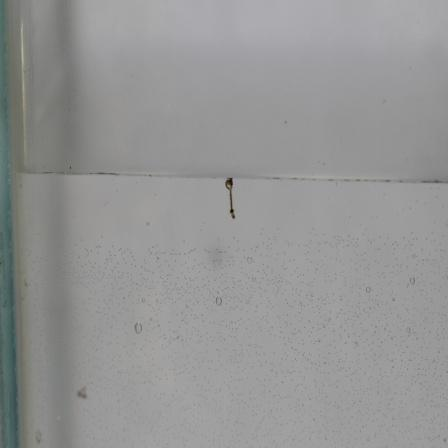Jentik-Nyamuk: (219, 173, 240, 221)
